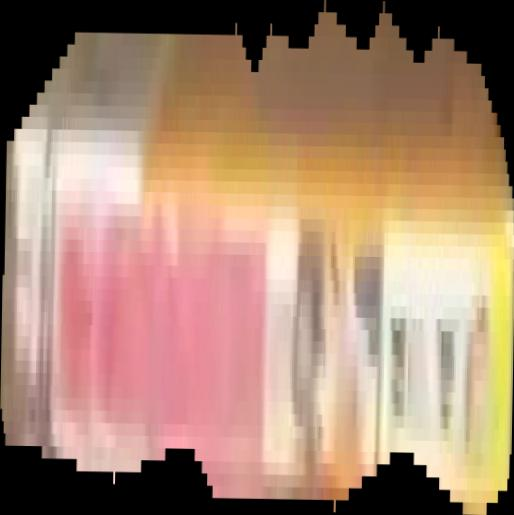flat: (1, 1, 514, 515)
